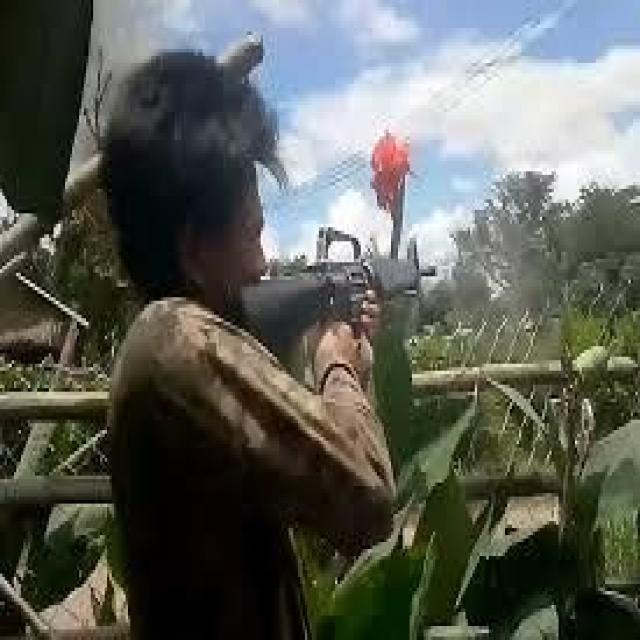gun: (242, 233, 438, 405)
